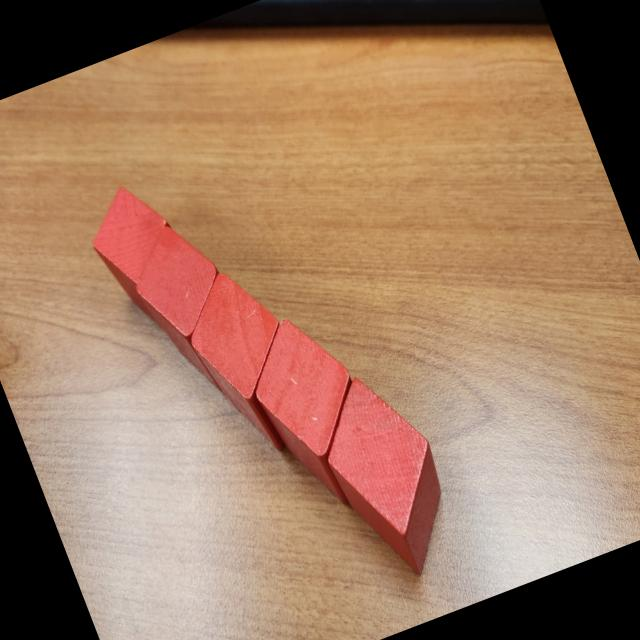red: (301, 361, 473, 594), (232, 304, 394, 522), (170, 256, 322, 469), (118, 212, 262, 408), (76, 173, 204, 338)
